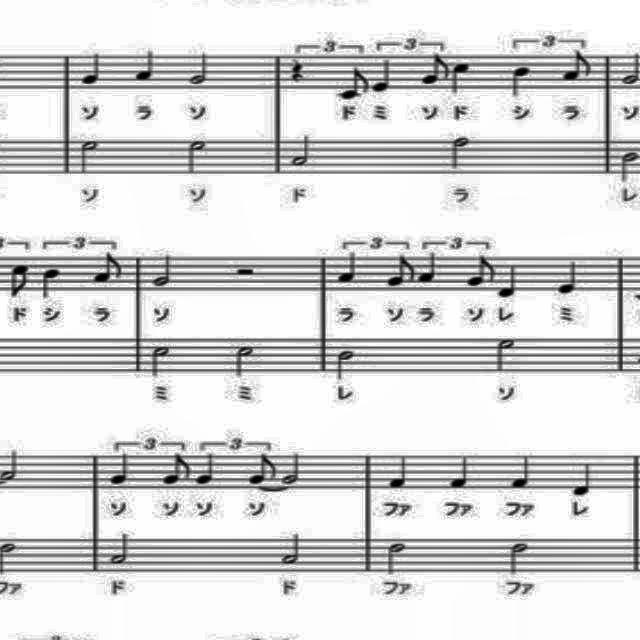Eighth-note: (334, 58, 371, 102), (379, 253, 417, 295), (554, 50, 598, 86), (240, 451, 280, 489), (87, 248, 125, 288), (154, 452, 193, 490), (464, 252, 501, 292), (417, 53, 453, 89), (6, 261, 32, 301)
Half-note: (282, 130, 322, 173), (176, 136, 214, 176), (228, 340, 264, 382), (489, 334, 523, 378), (276, 449, 310, 493), (443, 134, 479, 174), (502, 536, 538, 576), (278, 530, 310, 574), (329, 344, 363, 384), (382, 536, 411, 580), (184, 48, 212, 92), (150, 248, 178, 292), (106, 530, 138, 568), (74, 136, 102, 176), (146, 342, 174, 382), (616, 148, 640, 185), (618, 50, 640, 90)
Half-rest: (227, 256, 263, 280)
Quarter-note: (70, 44, 102, 90), (132, 44, 160, 92), (192, 448, 224, 490), (386, 447, 414, 495), (443, 448, 473, 492), (105, 451, 137, 491), (503, 451, 533, 493), (446, 57, 474, 101), (554, 255, 582, 299), (570, 458, 598, 502), (494, 261, 522, 303), (366, 59, 398, 95), (506, 63, 534, 103), (334, 248, 362, 288), (416, 248, 442, 288), (40, 264, 62, 304)
Quarter-rest: (287, 52, 307, 88)
